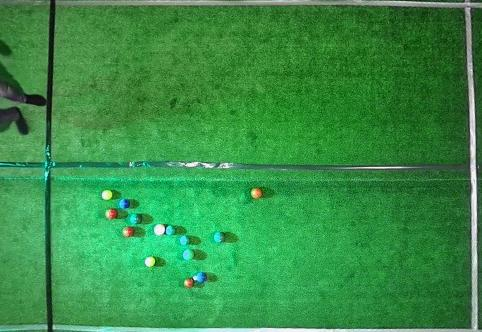blue: (119, 199, 130, 210), (197, 272, 207, 283)
green: (183, 249, 194, 260), (214, 232, 225, 243), (130, 214, 141, 224), (180, 235, 190, 245), (166, 225, 175, 235)
red: (154, 224, 165, 236), (106, 208, 117, 219), (251, 188, 262, 199), (123, 227, 134, 237), (184, 278, 193, 288)
vline: (1, 0, 56, 331), (462, 0, 481, 332)
white: (193, 275, 197, 280)
yellow: (145, 256, 155, 268), (101, 190, 112, 200)
